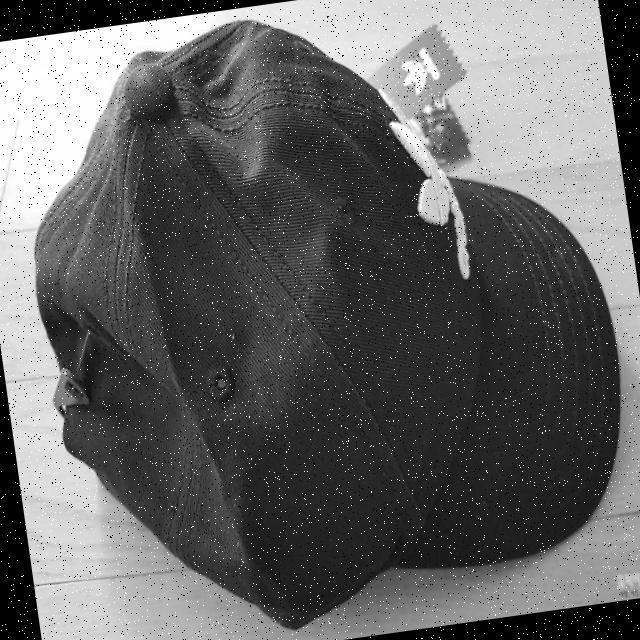Adidas: (374, 89, 467, 252), (395, 49, 434, 111)
